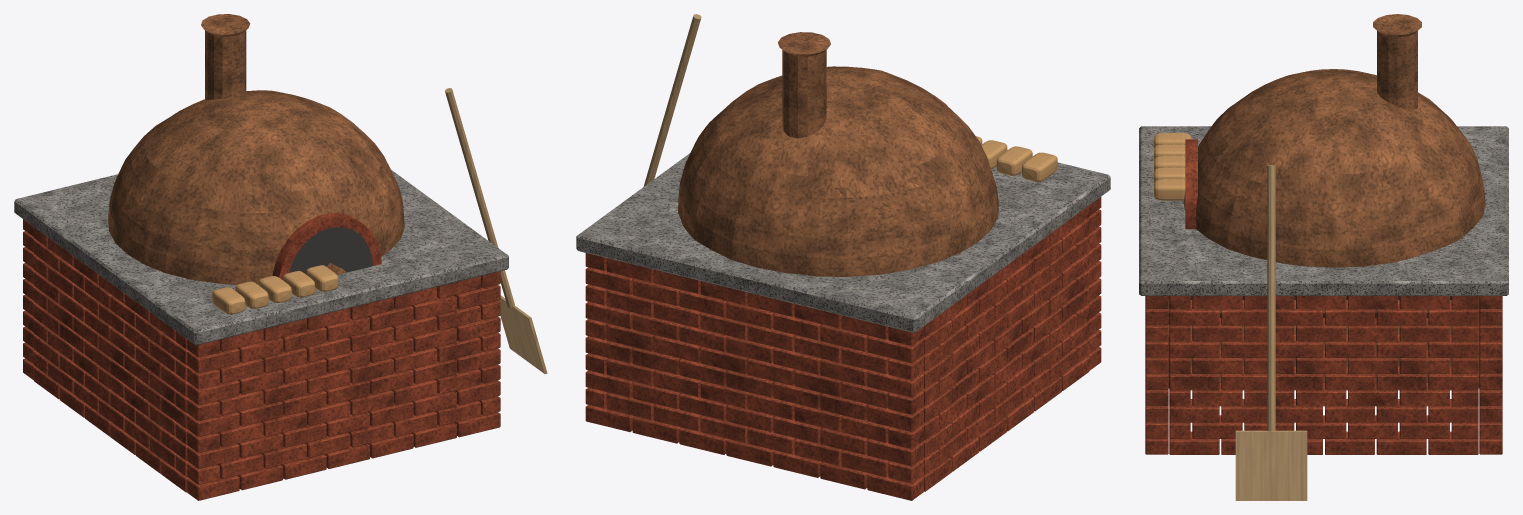
File: forno_comunitario.glb
3 renders of one model, left to right at view 1: azimuth 30°, elevation 25°; view 2: azimuth 150°, elevation 25°; view 3: azimuth 270°, elevation 25°, orthographic. The views are drawn at different scales.
Visible parts, largest first — view 1: forno_comunitario_tijolo, forno_comunitario_barro_cru, forno_comunitario_concreto, forno_comunitario_madeira_crua, forno_comunitario_pao_casca, forno_comunitario_fuligem; view 2: forno_comunitario_tijolo, forno_comunitario_barro_cru, forno_comunitario_concreto, forno_comunitario_pao_casca, forno_comunitario_madeira_crua; view 3: forno_comunitario_tijolo, forno_comunitario_barro_cru, forno_comunitario_concreto, forno_comunitario_madeira_crua, forno_comunitario_pao_casca, forno_comunitario_madeira_escura, forno_comunitario_madeira_lenha.
Boxes of the visible parts, bbox=[...] form: forno_comunitario_tijolo: bbox=[23, 213, 500, 500]; forno_comunitario_barro_cru: bbox=[108, 14, 404, 284]; forno_comunitario_concreto: bbox=[14, 170, 508, 345]; forno_comunitario_madeira_crua: bbox=[445, 88, 547, 373]; forno_comunitario_pao_casca: bbox=[212, 265, 338, 314]; forno_comunitario_fuligem: bbox=[289, 227, 372, 274]; forno_comunitario_tijolo: bbox=[585, 96, 1101, 500]; forno_comunitario_barro_cru: bbox=[678, 32, 998, 276]; forno_comunitario_concreto: bbox=[576, 153, 1110, 332]; forno_comunitario_pao_casca: bbox=[976, 136, 1057, 181]; forno_comunitario_madeira_crua: bbox=[643, 14, 701, 186]; forno_comunitario_tijolo: bbox=[1145, 139, 1502, 454]; forno_comunitario_barro_cru: bbox=[1183, 14, 1485, 267]; forno_comunitario_concreto: bbox=[1139, 126, 1508, 295]; forno_comunitario_madeira_crua: bbox=[1235, 165, 1307, 500]; forno_comunitario_pao_casca: bbox=[1154, 133, 1191, 200]; forno_comunitario_madeira_escura: bbox=[1168, 296, 1479, 388]; forno_comunitario_madeira_lenha: bbox=[1168, 296, 1451, 341].
Bounding box in the file's own units: 2.24 × 1.87 × 1.76.
Materials: 10 (6 with a texture image).
